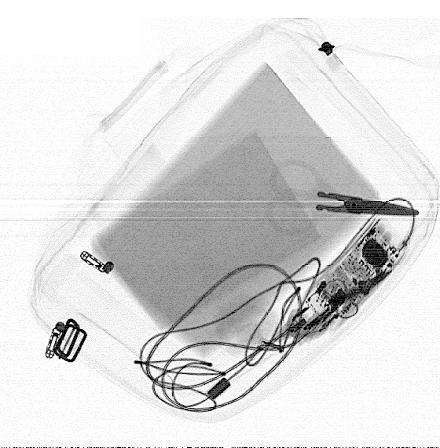Scissors: (262, 158, 420, 239)
